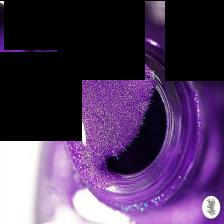purple: (0, 2, 224, 223), (88, 35, 204, 211), (27, 32, 156, 188), (0, 2, 37, 60)
